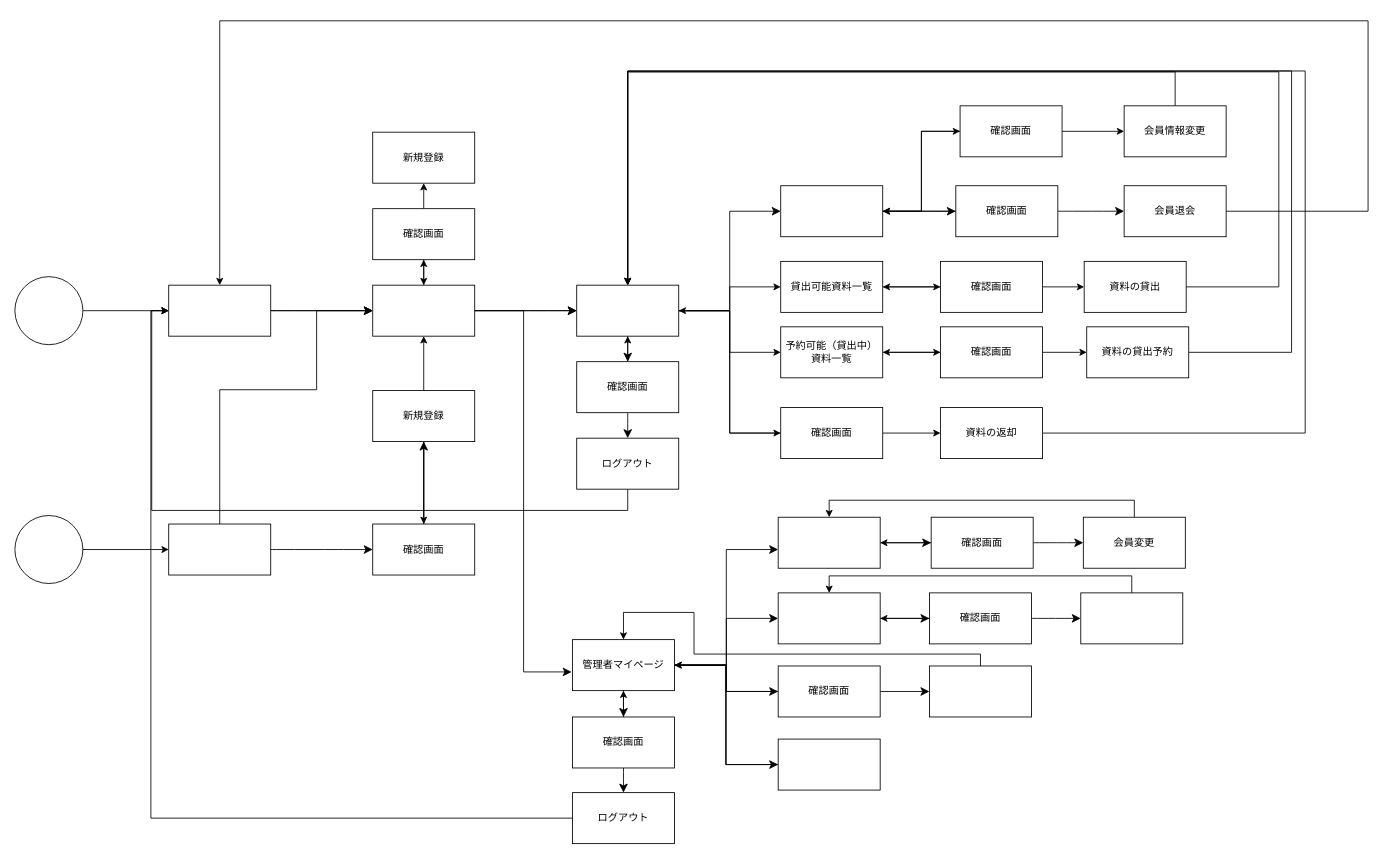
Image size: 1390x859. Some labels were removed from this diagram. The shapes that lost their labels are listed below. From the top down, each one's centre as x and y in pixels, then its label:
At (x=831, y=211): "会員情報表示".
At (x=219, y=310): "トップページ".
At (x=423, y=310): "ログイン画面".
At (x=627, y=310): "会員マイページ".
At (x=219, y=549): "管理者用サイト トップページ".
At (x=828, y=542): "会員一覧・検索".
At (x=828, y=618): "管理者用資料一覧".
At (x=1131, y=618): "資料削除".
At (x=980, y=691): "新規資料の登録".
At (x=828, y=764): "貸出資料の確認".
